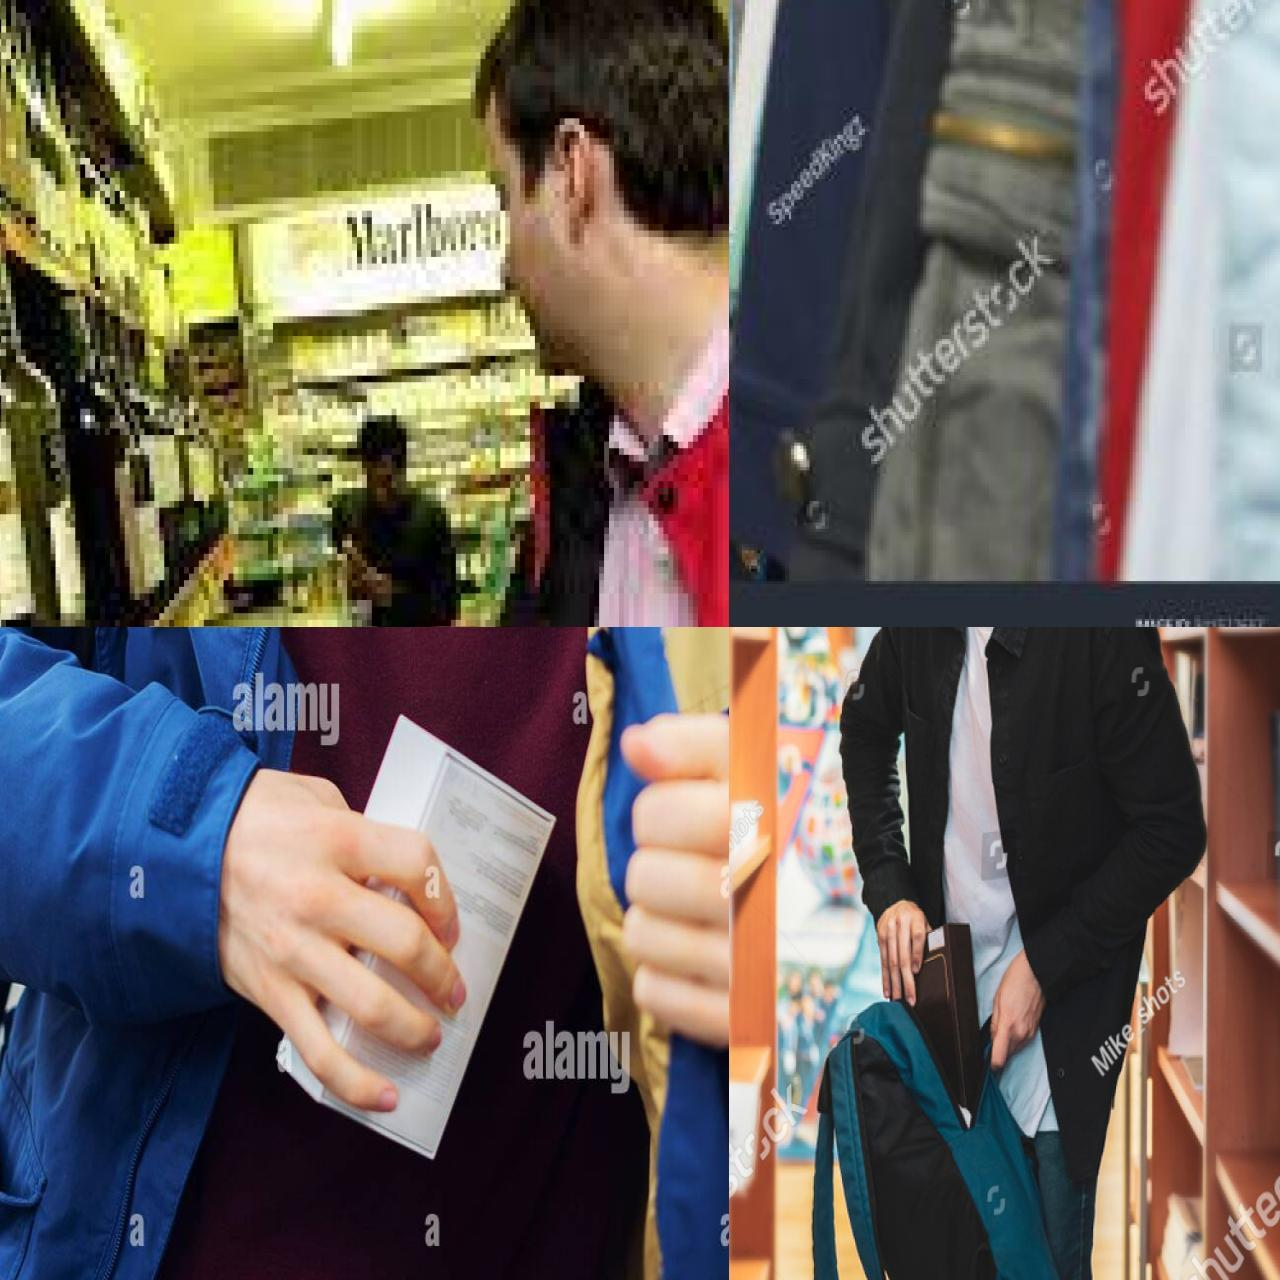Shoplifting: (0, 627, 729, 1276), (729, 627, 1280, 1280), (312, 402, 729, 627), (729, 0, 891, 574)
